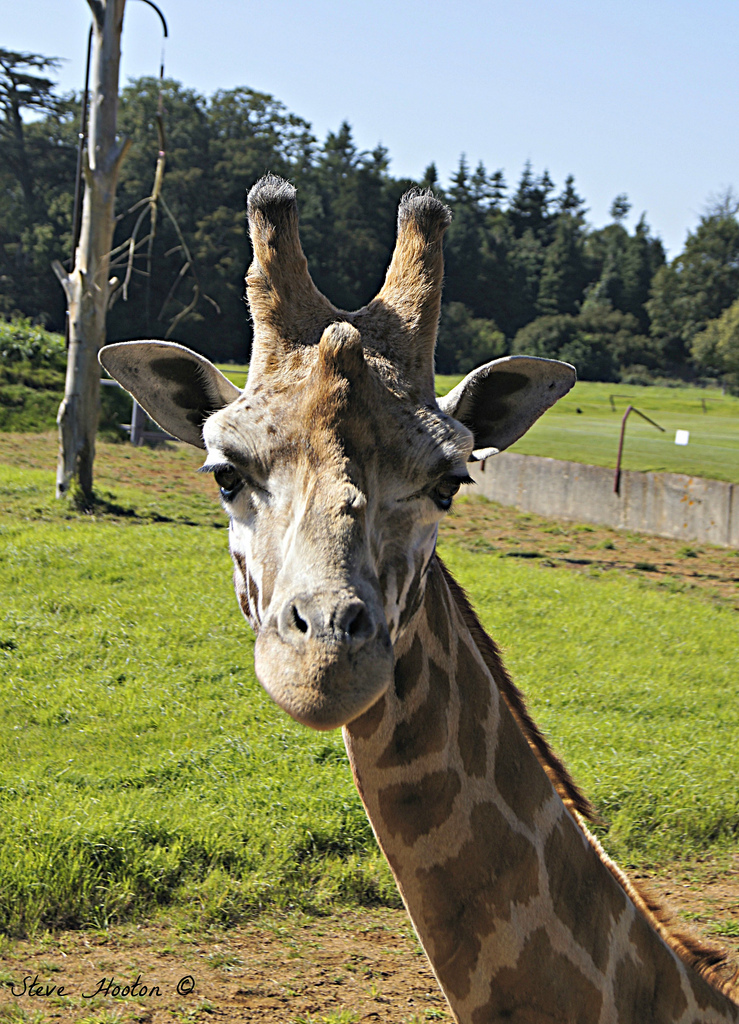giraffe: (118, 156, 642, 962)
